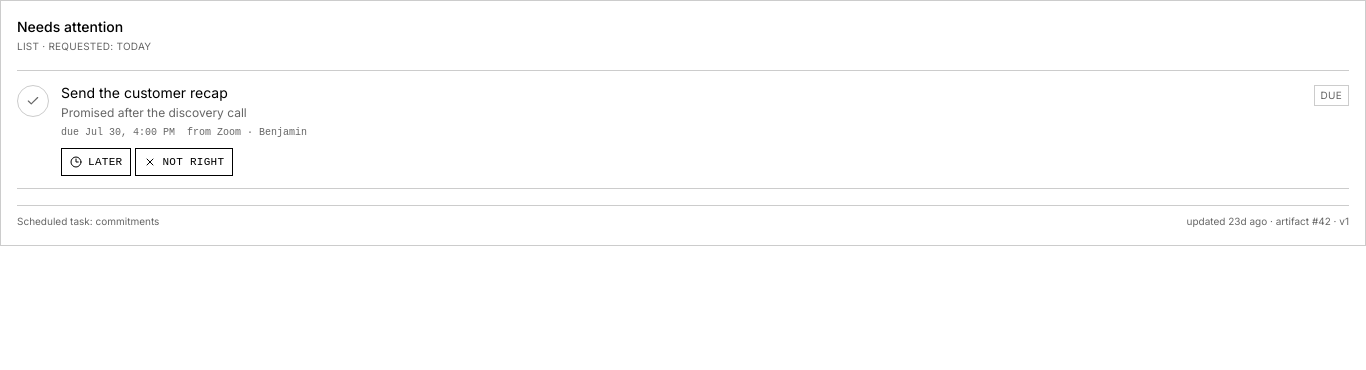
Test: Live View interactive list decisions › routes Not right to a correction or a reversible removal
Later steps or results of the test are not shown.
Click the button with aria-label "not right Send the customer recap" at point(184, 162), box [135,148,233,176]
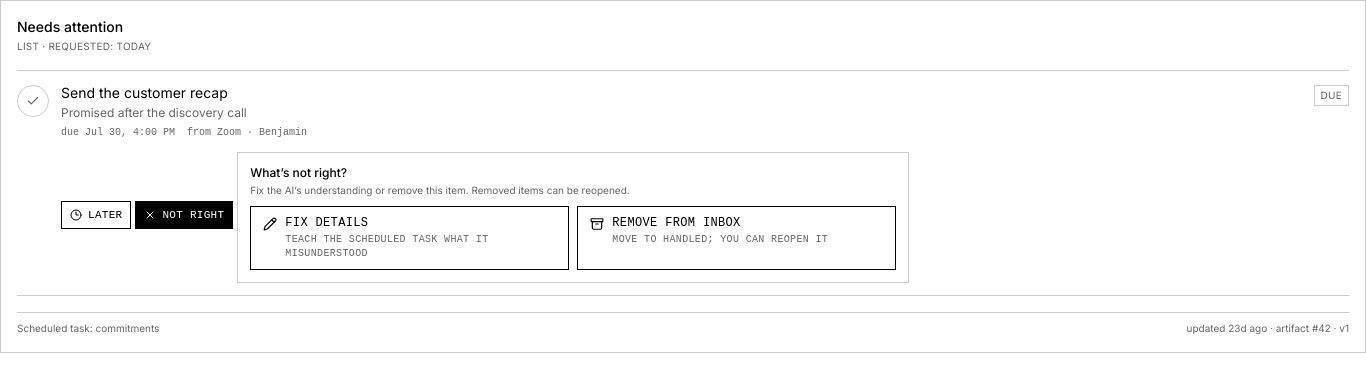
Expected: the button with aria-label "not right Send the customer recap" is expanded, [135,201,233,229]
Expected: the text "What’s not right?" is shown, [250,165,347,180]
Expected: the text "Fix details" is shown, [285,216,368,230]
Press Escape in the element with test id "live-view-item-customer-recap-not-right-panel", box [237,152,909,282]
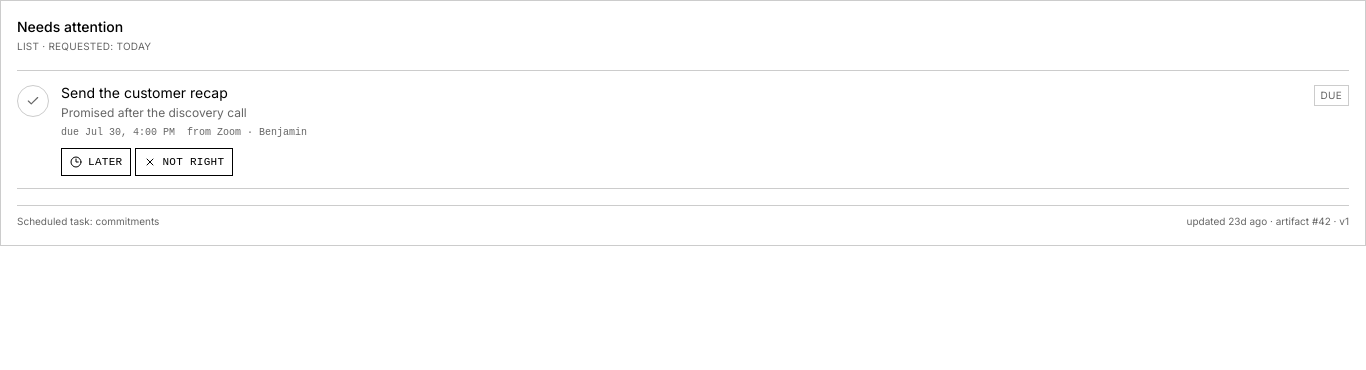
Expected: the text "What’s not right?" is gone
Expected: the button with aria-label "not right Send the customer recap" is collapsed, [135,148,233,176]
